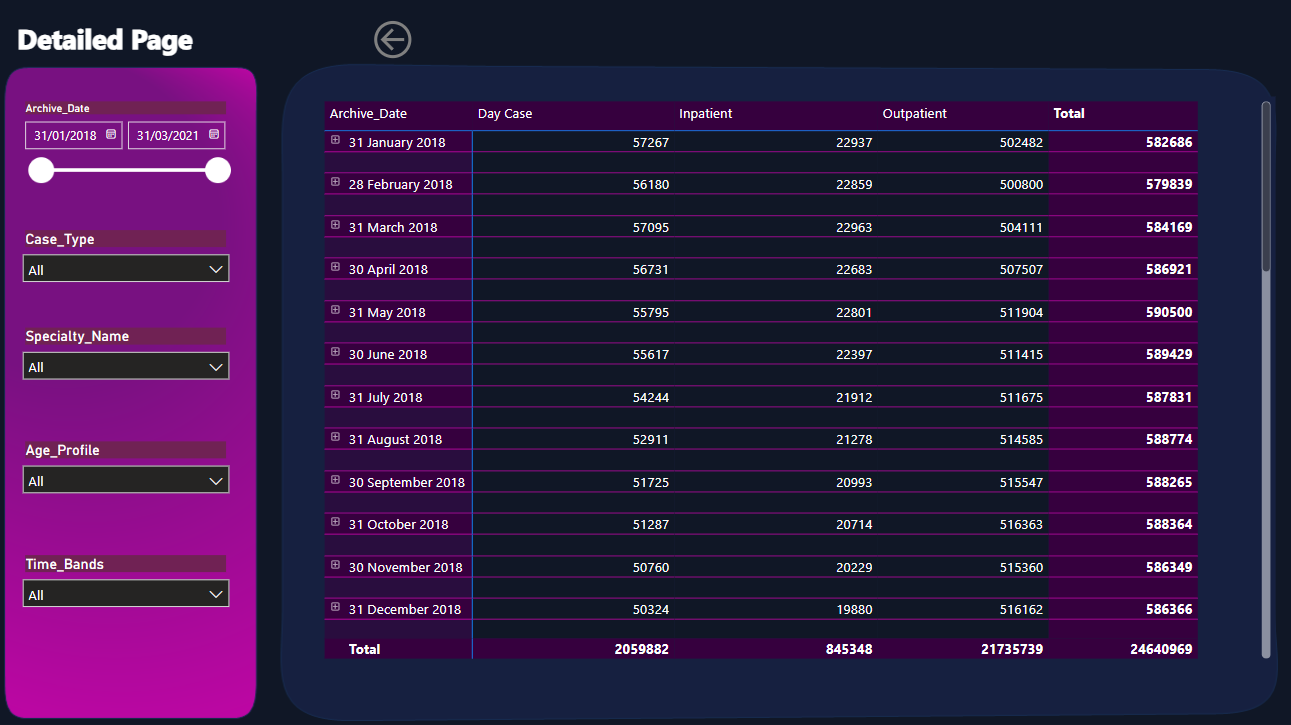

The page's visual inventory and layout, read from the dashboard file:
{"tool":"powerbi","page":{"name":"Detail Page","canvas":[1280,720],"ordinal":1},"visuals":[{"type":"slicer","fields":{"Values":["All_Data.Case_Type"]},"box":[16,224,224,64],"z":0},{"type":"slicer","fields":{"Values":["All_Data.Archive_Date"]},"box":[16,96,224,112],"z":1000},{"type":"textbox","box":[16,16,208,48],"z":2000},{"type":"slicer","fields":{"Values":["All_Data.Specialty_Name"]},"box":[16,320,224,96],"z":3000},{"type":"slicer","fields":{"Values":["All_Data.Age_Profile"]},"box":[16,432,224,96],"z":4000},{"type":"slicer","fields":{"Values":["All_Data.Time_Bands"]},"box":[16,544,224,80],"z":5000},{"type":"pivotTable","fields":{"Rows":["All_Data.Archive_Date","All_Data.Specialty_Name","All_Data.Age_Profile","All_Data.Time_Bands"],"Values":["Sum(All_Data.Total)"],"Columns":["All_Data.Case_Type"]},"box":[320,96,944,560],"z":6000},{"type":"actionButton","box":[368,16,48,48],"z":7000}]}

Visuals, with their boxes in screenshot pixels (x1, y1, x2, y2), scaled from the page's 1280x720 canvas onto the 1291x725 screenshot:
slicer - All_Data.Case_Type: left=16, top=226, right=242, bottom=290
slicer - All_Data.Archive_Date: left=16, top=97, right=242, bottom=209
textbox: left=16, top=16, right=226, bottom=64
slicer - All_Data.Specialty_Name: left=16, top=322, right=242, bottom=419
slicer - All_Data.Age_Profile: left=16, top=435, right=242, bottom=532
slicer - All_Data.Time_Bands: left=16, top=548, right=242, bottom=628
pivotTable - All_Data.Archive_Date x All_Data.Specialty_Name: left=323, top=97, right=1275, bottom=661
actionButton: left=371, top=16, right=420, bottom=64
